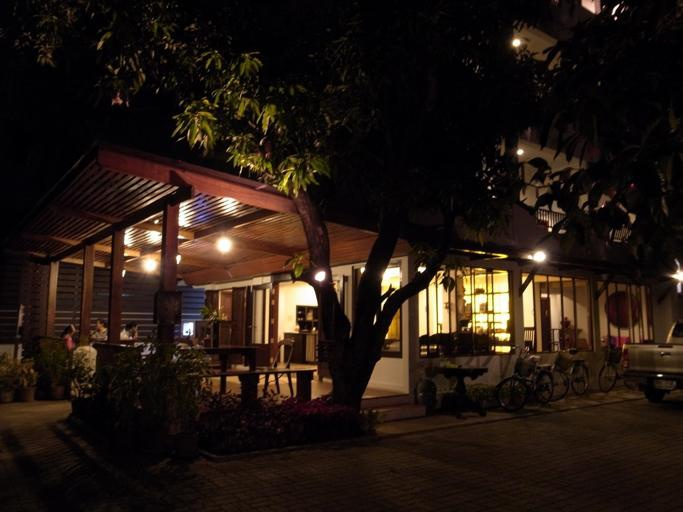non-vehicle: (494, 344, 553, 410), (538, 340, 590, 396), (596, 335, 622, 394)
